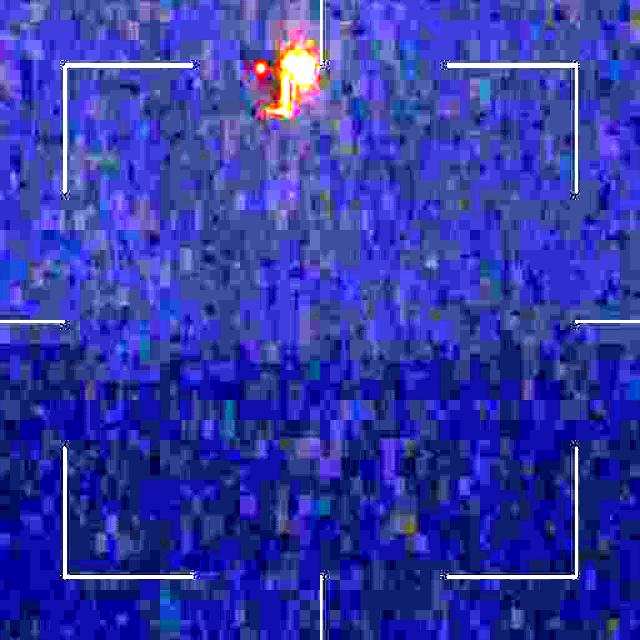bird: (241, 32, 314, 128)
